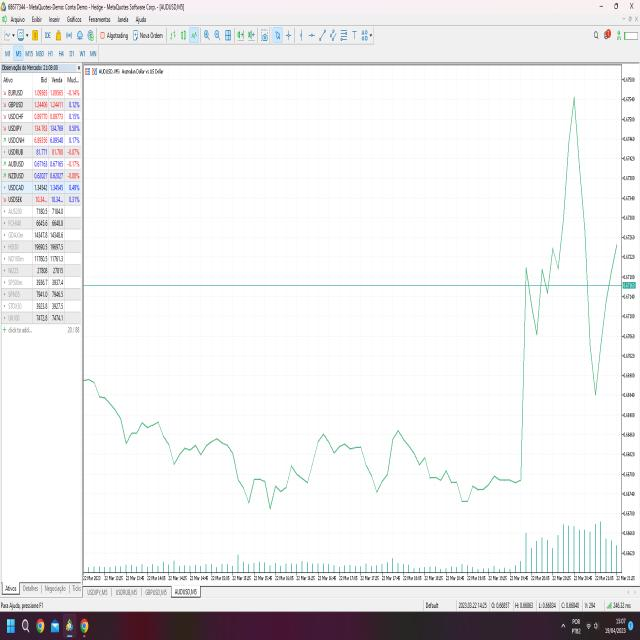bandeira_alta: (516, 237, 554, 505)
fundo_duplo: (226, 458, 288, 521)
